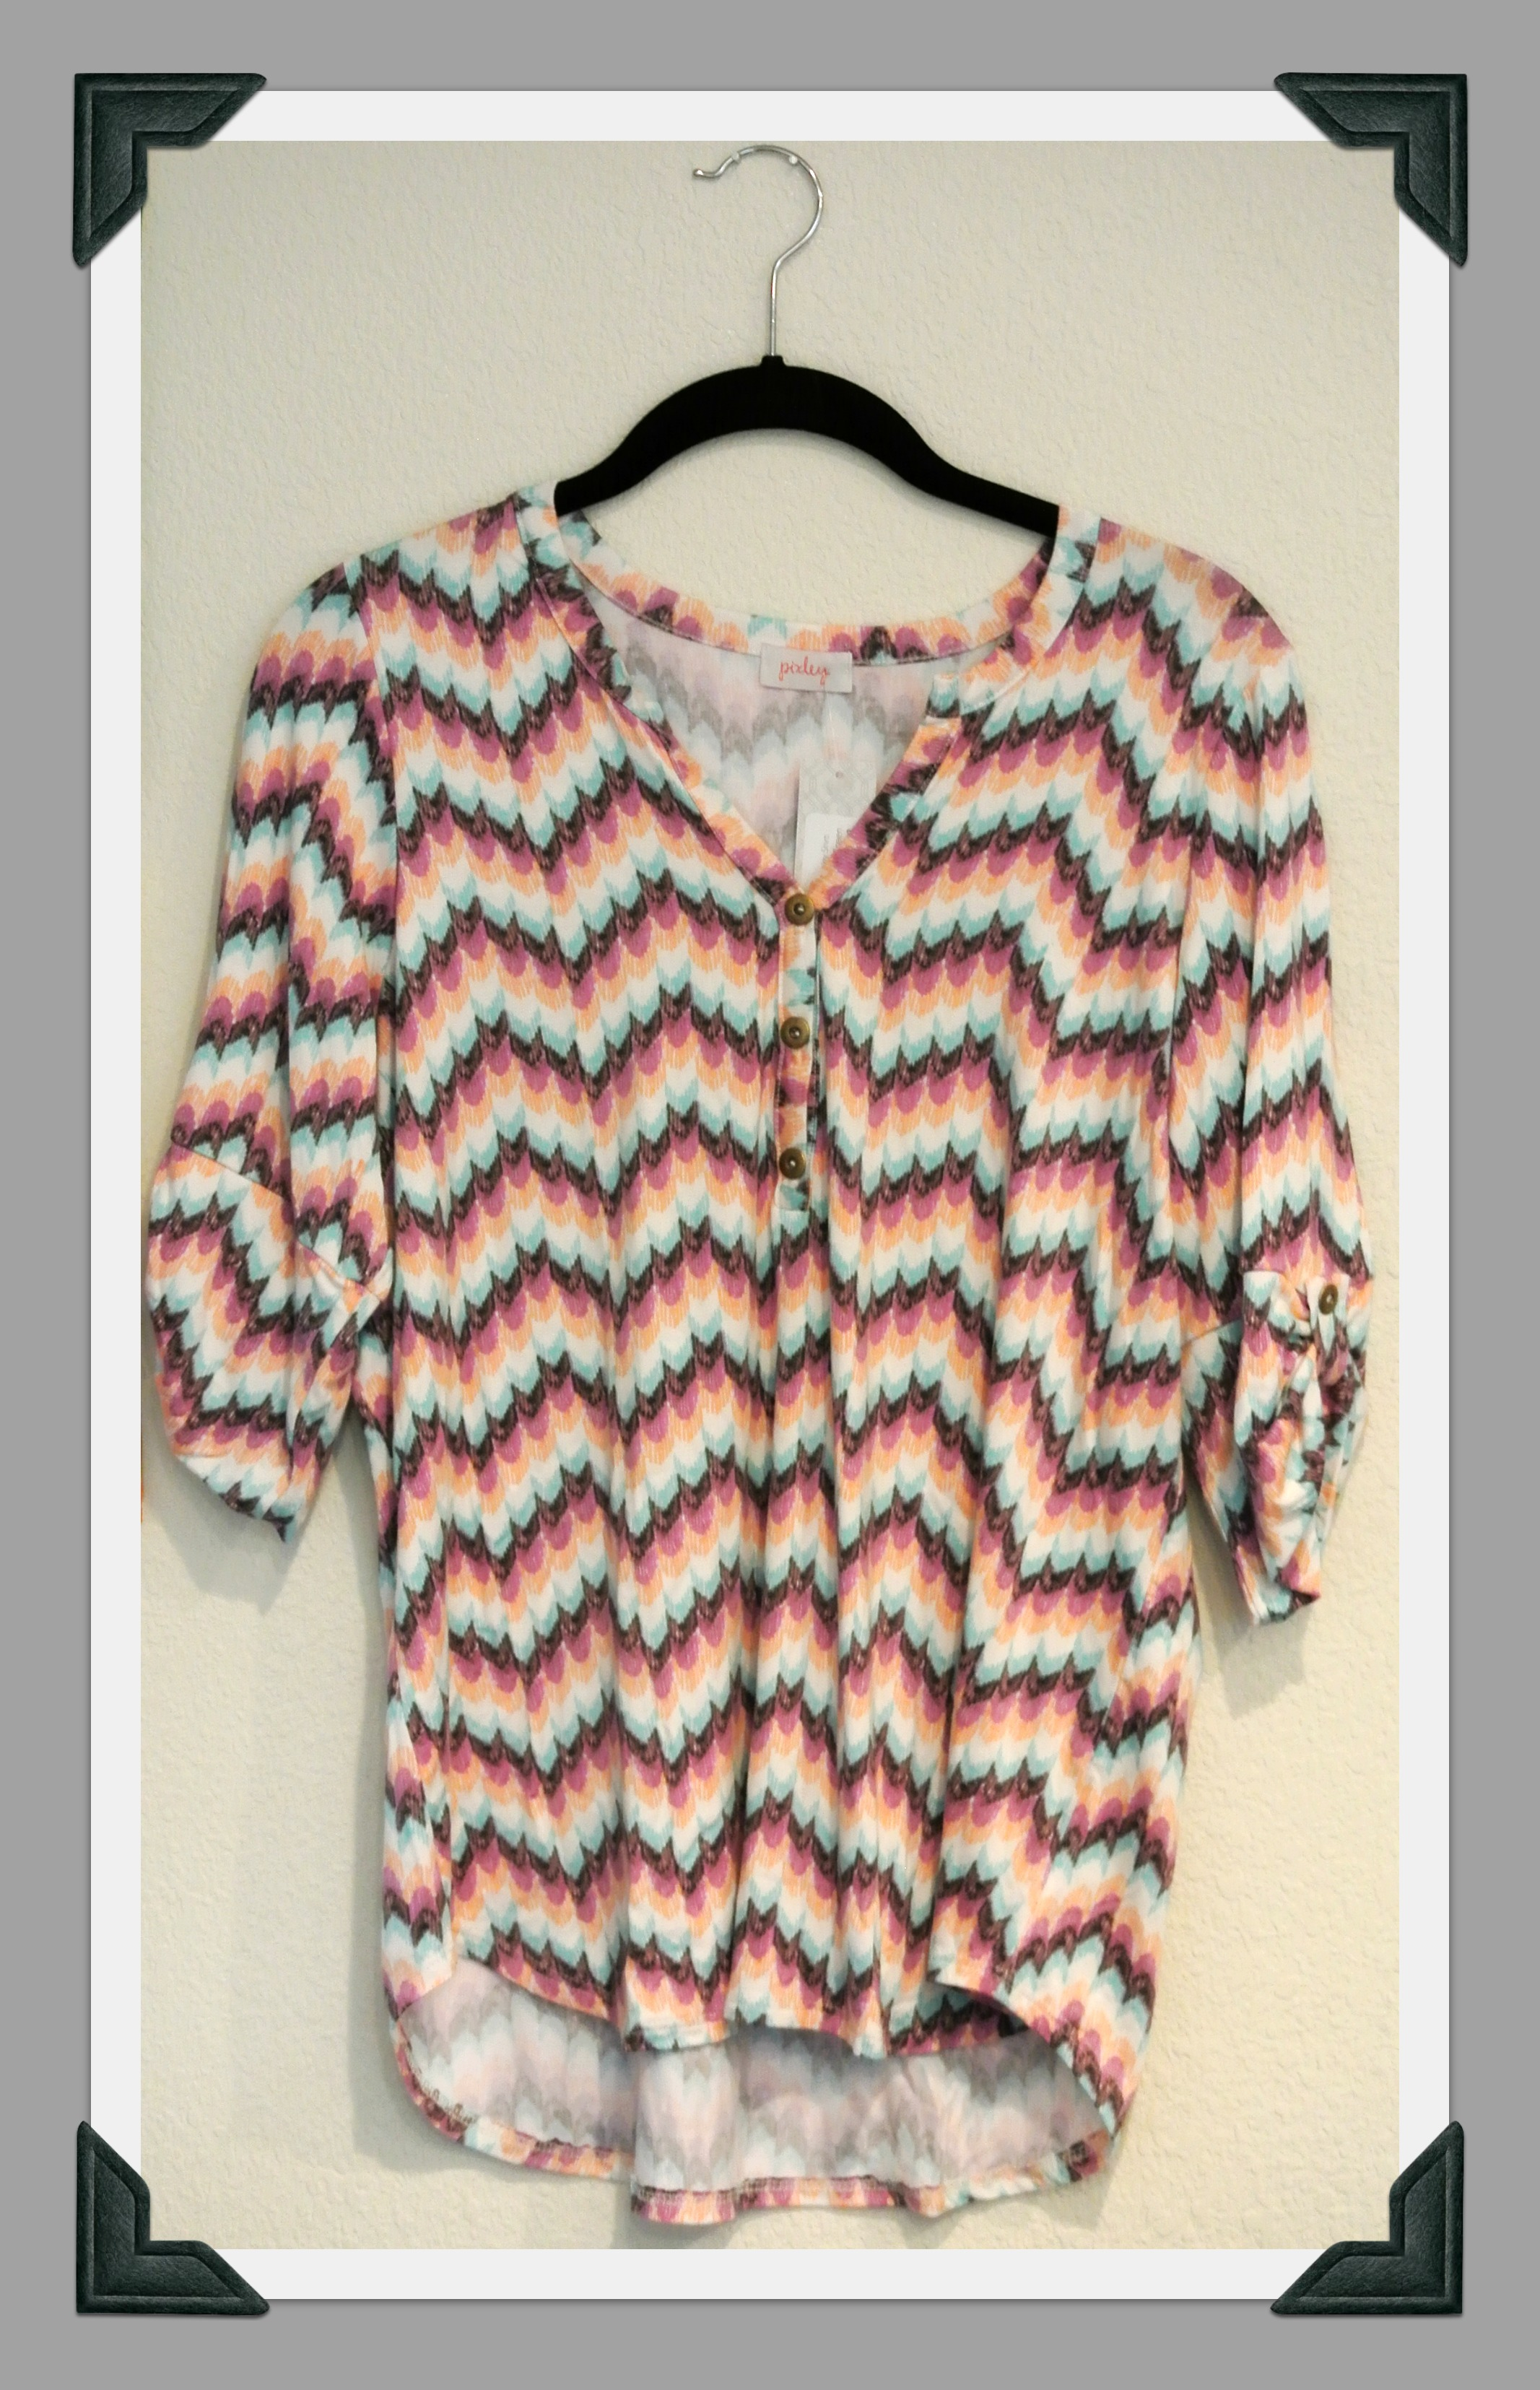C_blouse: (132, 484, 1397, 2235)
